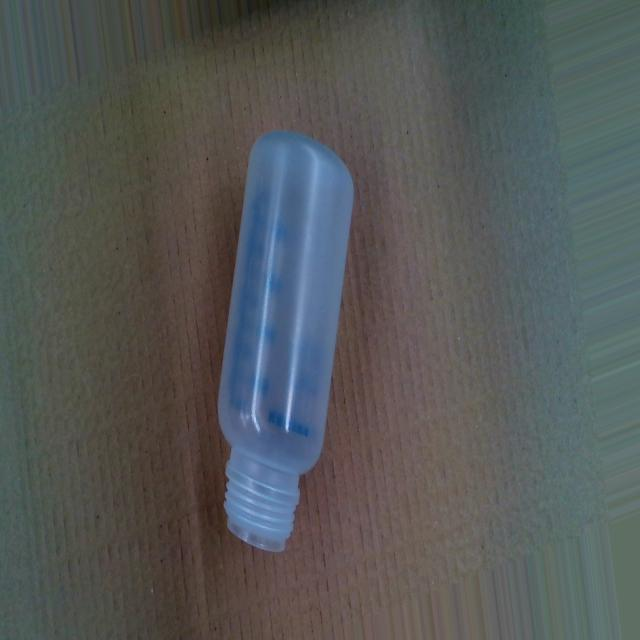bottle: (213, 129, 356, 557)
